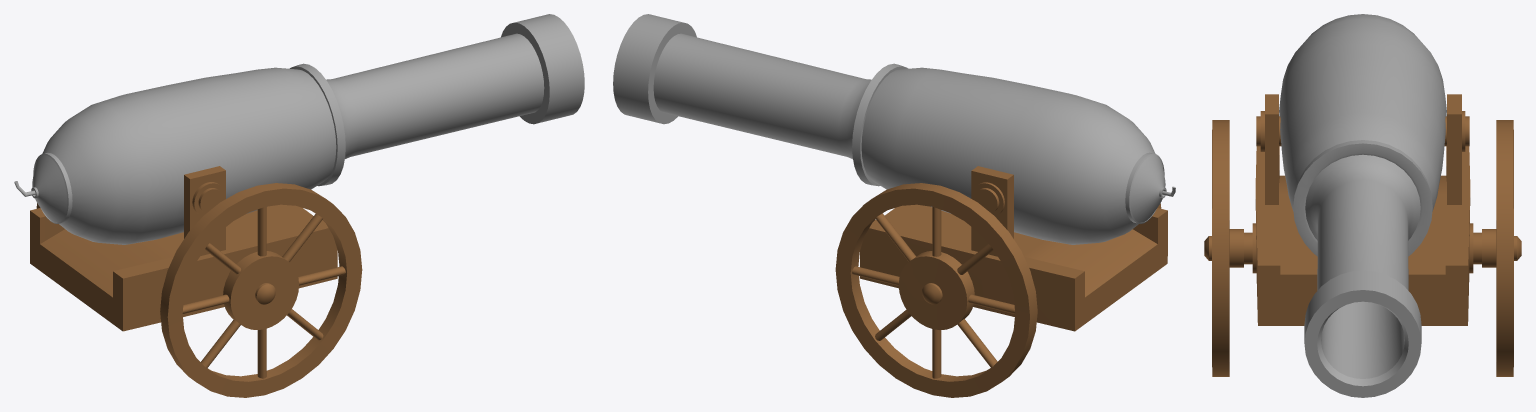
Rendered from Cañon Model demo test 1.fbx.
The picture shows the model from 3 angles, left to right: view 1: azimuth 30°, elevation 25°; view 2: azimuth 150°, elevation 25°; view 3: azimuth 270°, elevation 25°; orthographic projection. The views are drawn at different scales.
Visible parts, largest first — view 1: Cannon, CannonBase; view 2: Cannon, CannonBase; view 3: Cannon, CannonBase.
Boxes of the visible parts, box(x1,y1,x2,y2) form: Cannon: box(14, 14, 584, 244); CannonBase: box(30, 166, 362, 397); Cannon: box(613, 14, 1175, 244); CannonBase: box(835, 166, 1167, 397); Cannon: box(1279, 14, 1446, 397); CannonBase: box(1204, 94, 1521, 376).
Size of the model in its own units: 380 by 855 by 396.
